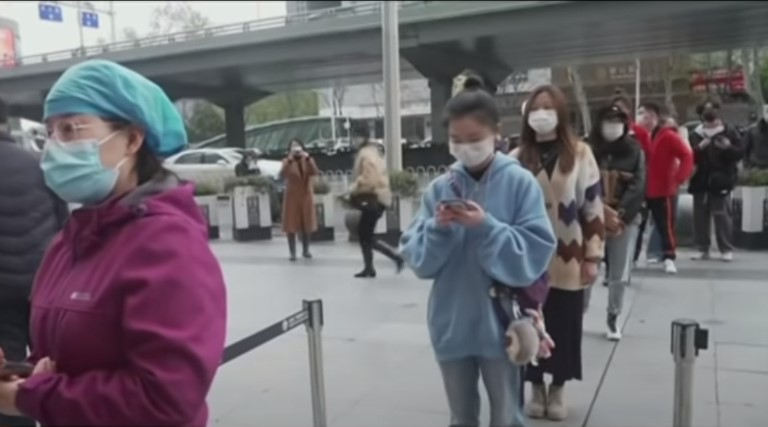face_with_mask: (39, 60, 171, 203), (439, 78, 499, 171), (520, 82, 566, 135), (595, 104, 629, 142)
